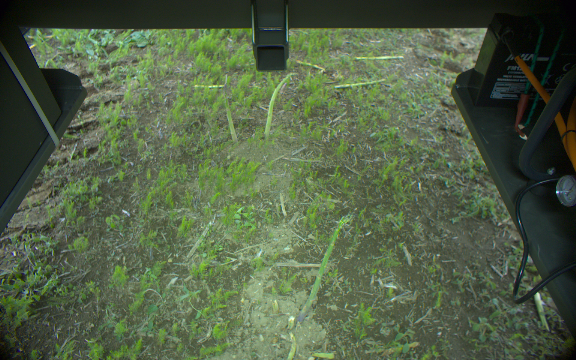aspa: (297, 208, 353, 322), (262, 72, 297, 136), (220, 85, 238, 145), (334, 78, 387, 89), (354, 54, 401, 60)
